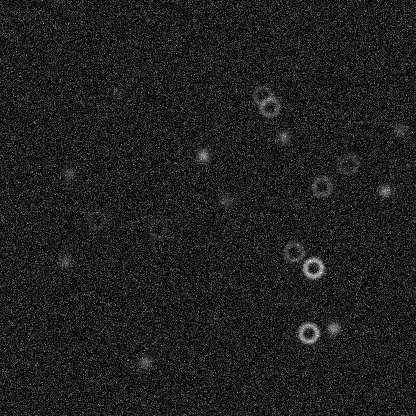Ring: (336, 152, 360, 176), (296, 321, 320, 345), (145, 215, 169, 239), (250, 83, 274, 107), (281, 239, 305, 263), (257, 94, 281, 118), (301, 255, 325, 279), (84, 207, 108, 231), (309, 174, 333, 198)
Spot: (137, 353, 153, 369), (195, 147, 211, 163), (275, 129, 291, 145), (325, 320, 341, 336), (108, 83, 124, 99), (217, 192, 233, 208), (57, 253, 73, 269), (61, 165, 77, 181), (392, 121, 408, 137), (377, 182, 393, 198)
